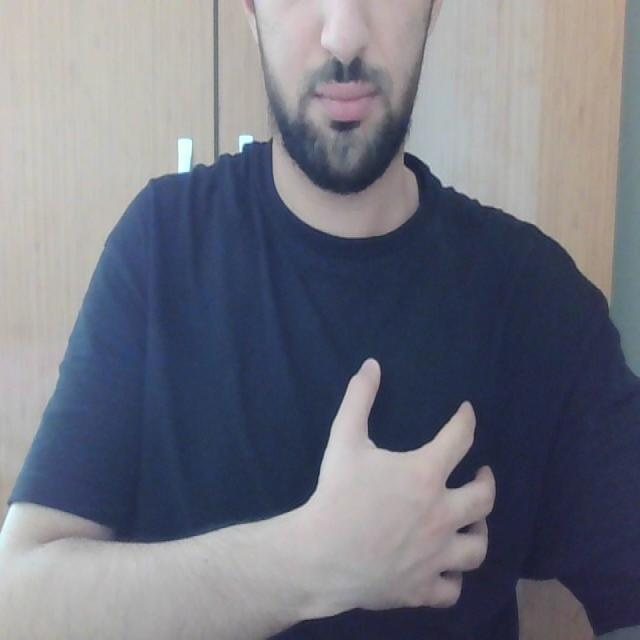Anne: (178, 354, 542, 634)
